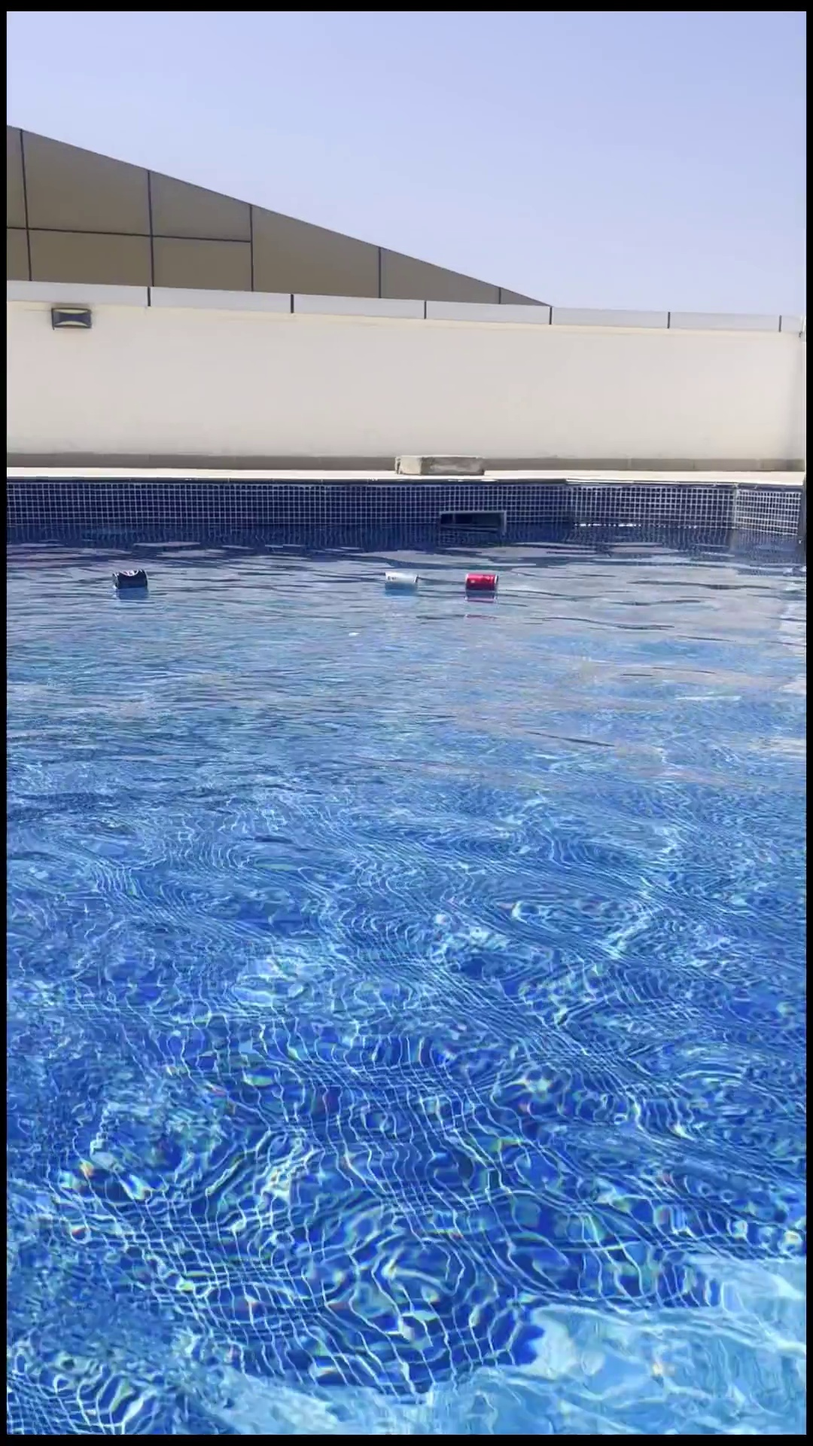debris: (458, 558, 500, 609), (111, 562, 148, 603), (382, 560, 419, 596)
